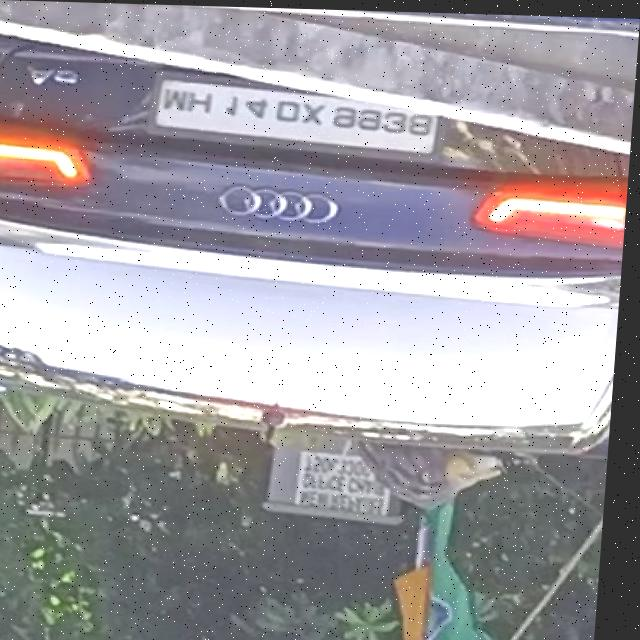plate: (149, 65, 455, 161)
